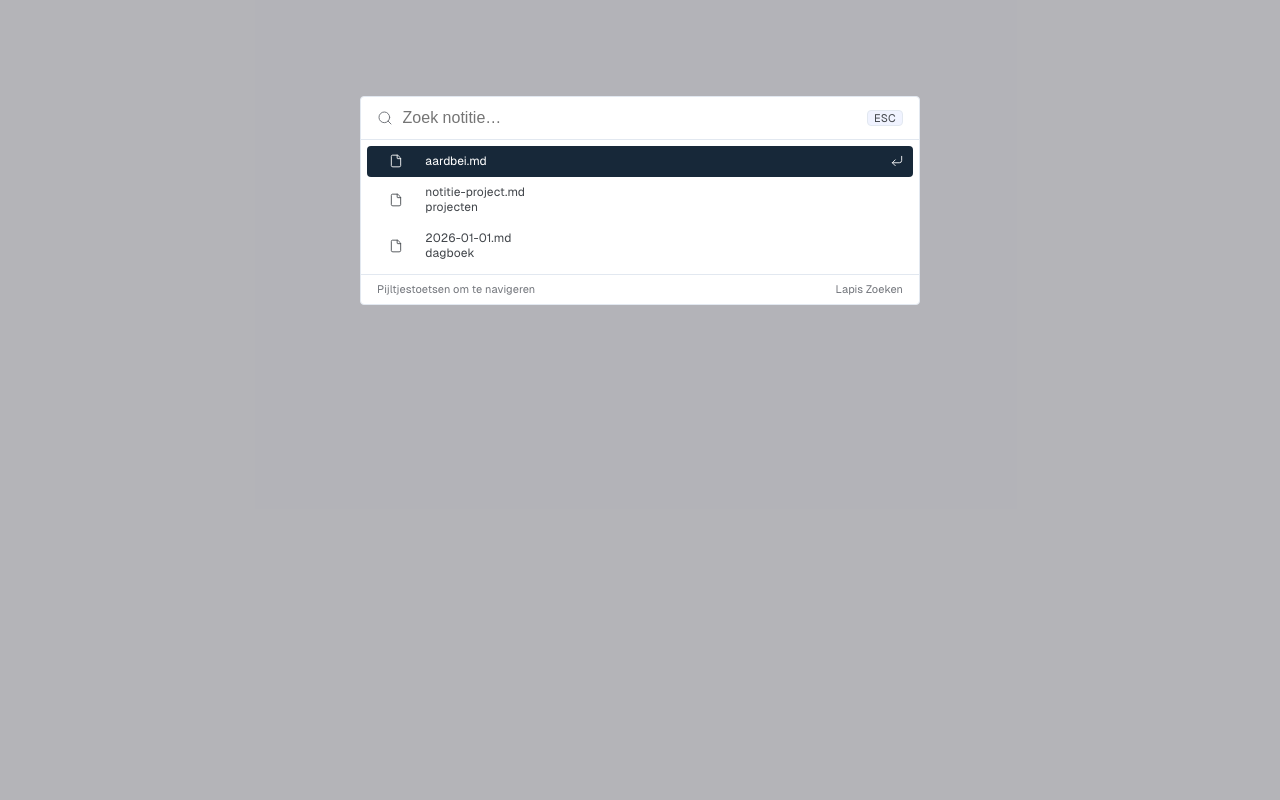
QuickSwitcher › filtert fuzzy zodra je typt
The image size is (1280, 800).
Type "np" into the field with placeholder "Zoek notitie…" at (630, 118), box top-left (403, 97), bottom-right (857, 139)
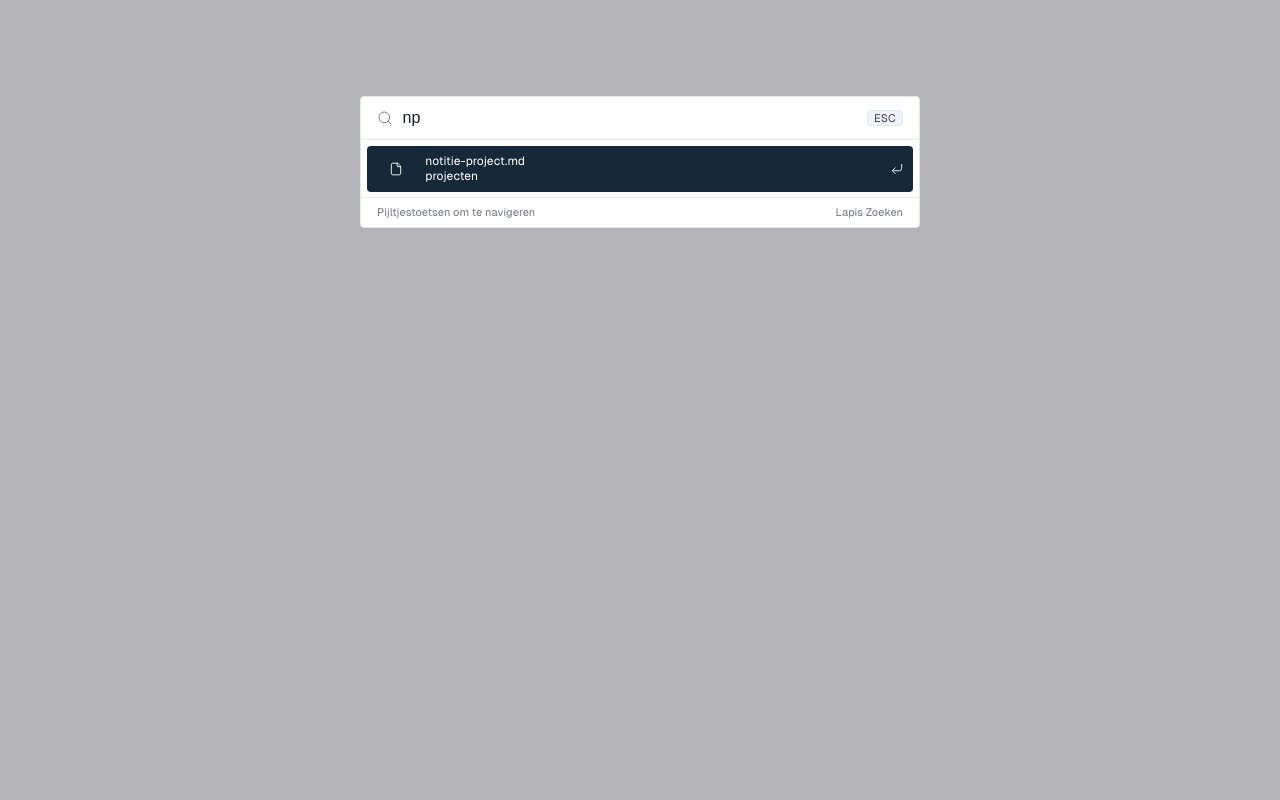
Expected: the option shows "notitie-project.md", top-left (367, 146), bottom-right (913, 192)
Now the number of options is 1, box top-left (367, 146), bottom-right (913, 192)
